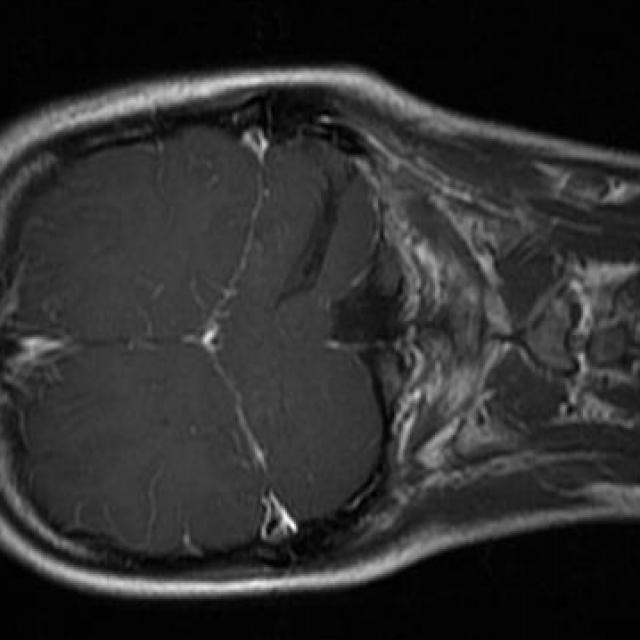glioma: (276, 164, 358, 305)
